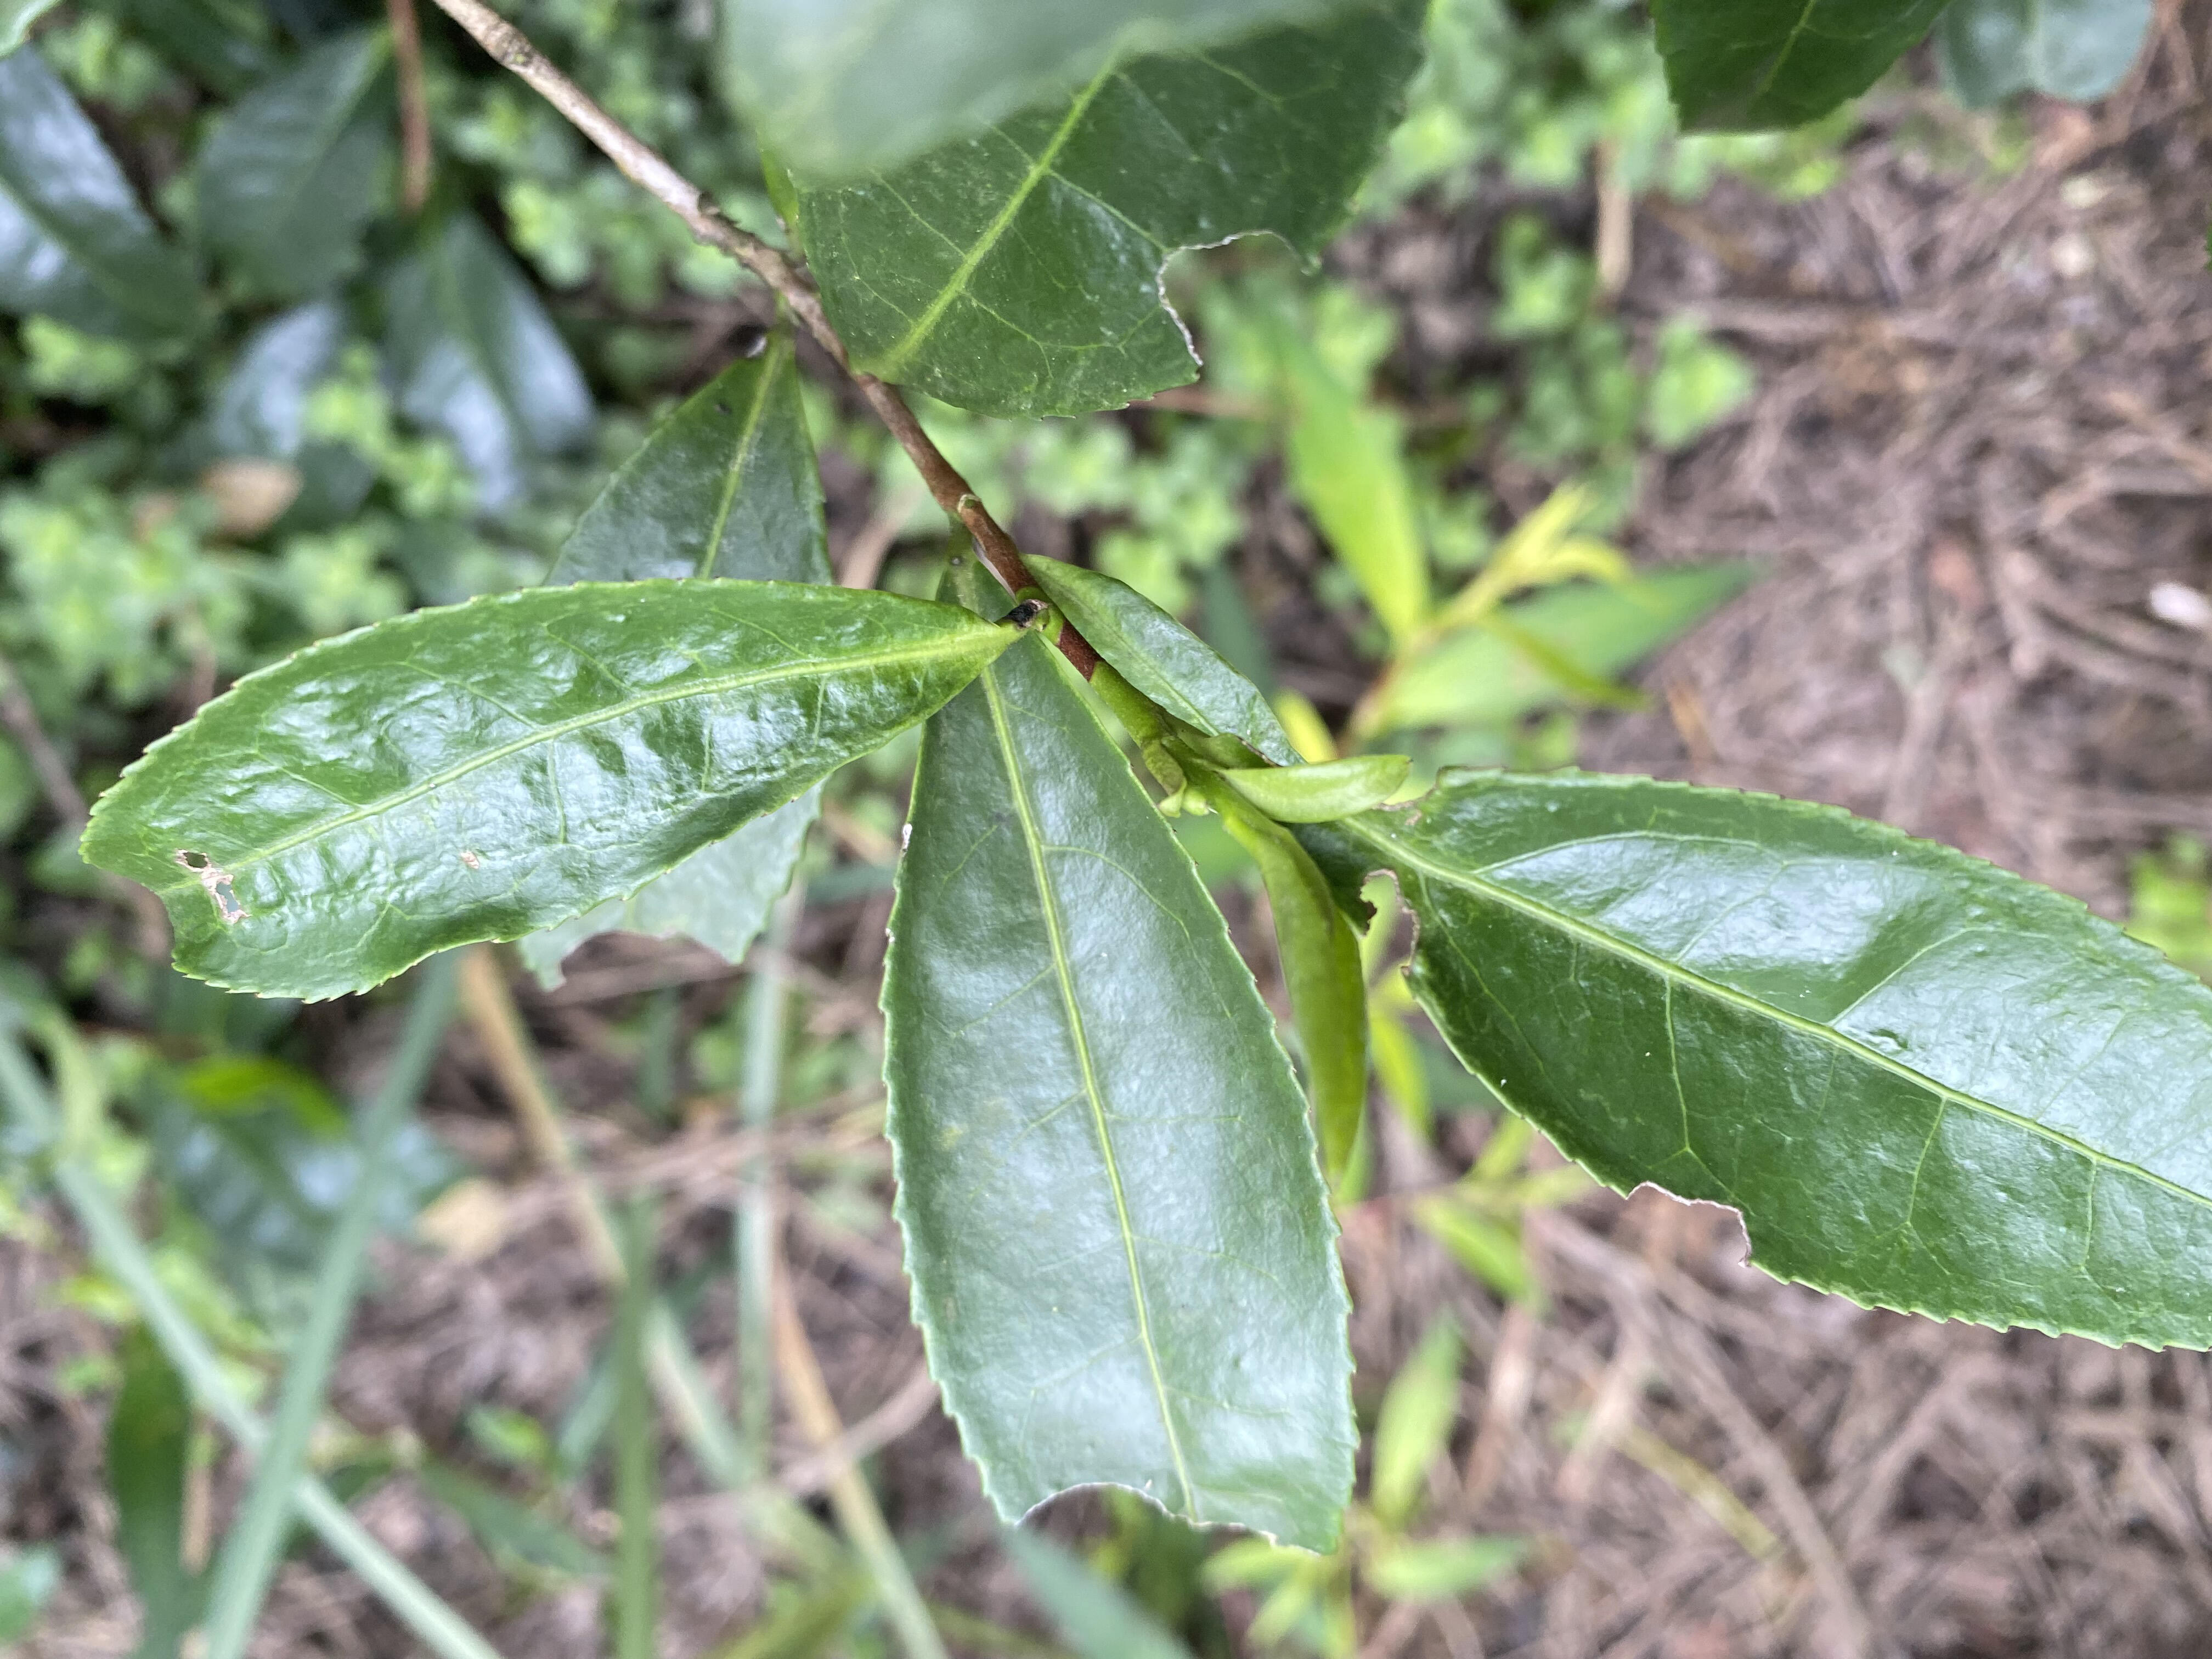chihuo_high: (1298, 767, 2210, 1352)
chihuo_low: (878, 634, 1362, 1561), (77, 573, 1001, 1004), (791, 2, 1444, 422)
